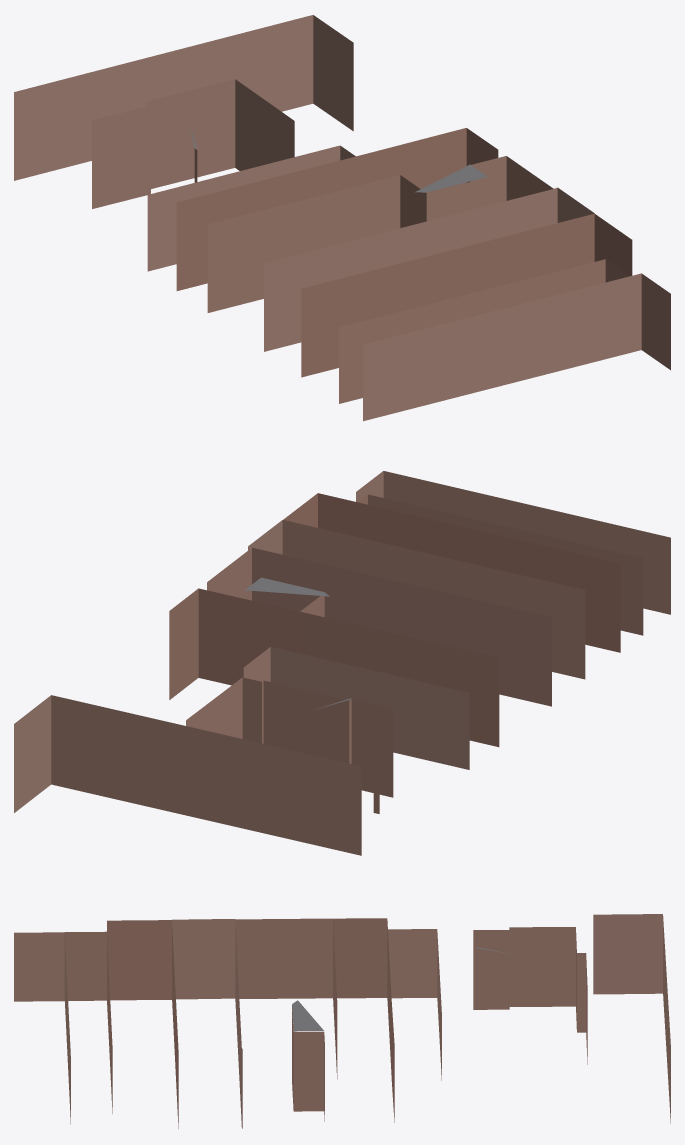
Rendered from c_1635_17827_buildings_residential.glb.
The picture shows the model from 3 angles, top to bottom: view 1: azimuth 30°, elevation 25°; view 2: azimuth 150°, elevation 25°; view 3: azimuth 270°, elevation 25°; orthographic projection. The views are drawn at different scales.
Visible parts, largest first — view 1: geometry_0; view 2: geometry_0; view 3: geometry_0.
Part boxes in pixels (bbox=[...]): geometry_0: bbox=[14, 15, 670, 421]; geometry_0: bbox=[14, 471, 670, 855]; geometry_0: bbox=[14, 914, 670, 1128].
Bounding box in the file's own units: 40.47 × 11.21 × 82.08.
